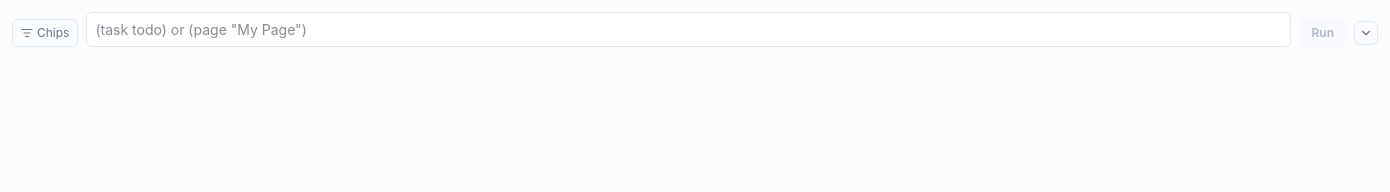
QueryInput › shows syntax hints when expand is clicked
What coordinates should you click on to do the following:
click the button with test id "query-input-expand"
I would click on:
 (1366, 32)
Its box is left=1354, top=20, right=1378, bottom=44.
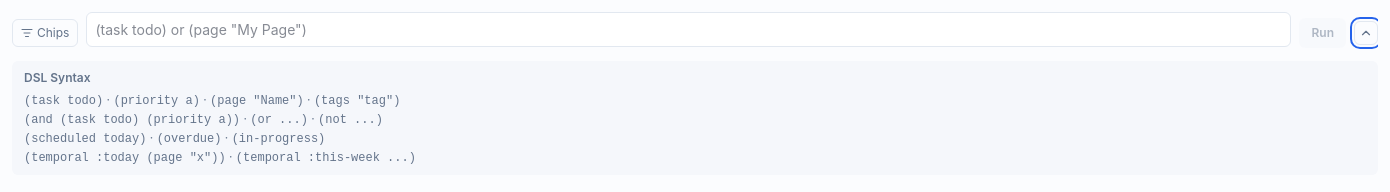
Result: the element with test id "query-input-hints" is shown at left=12, top=61, right=1378, bottom=175
